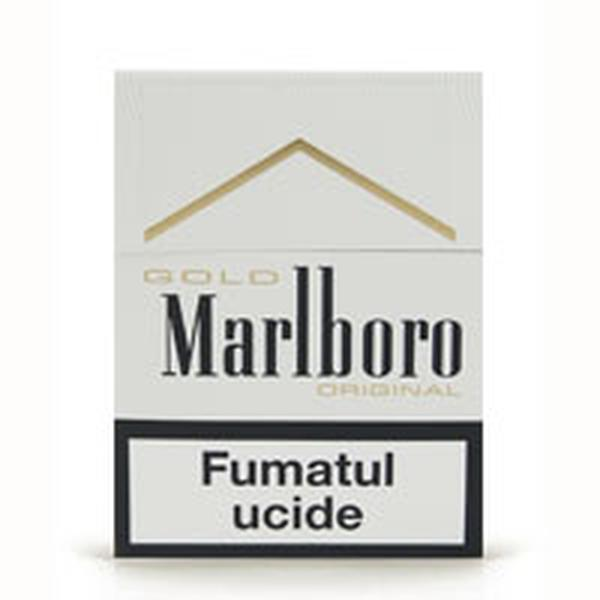marlboro_gold: (112, 71, 482, 557)
